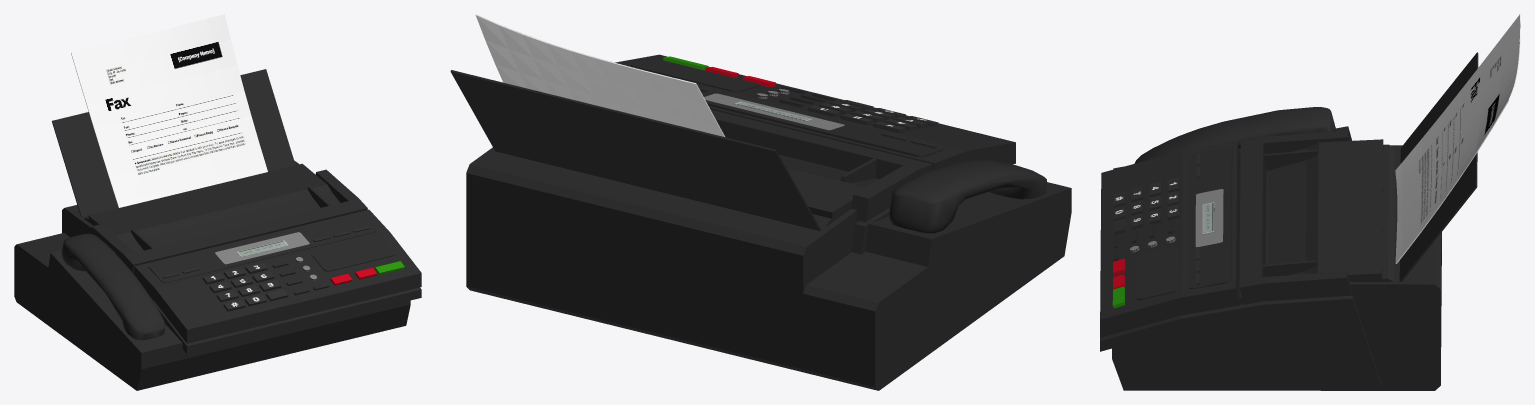
File: Fax.FBX
3 views of the same model, side by side, from view 1: azimuth 30°, elevation 25°; view 2: azimuth 150°, elevation 25°; view 3: azimuth 270°, elevation 25° (orthographic). The views are drawn at different scales.
Visible parts, largest first — view 1: fax; view 2: fax; view 3: fax.
Part boxes in pixels (x1,y1,x2,y2): fax: (14, 14, 421, 390); fax: (450, 14, 1071, 390); fax: (1100, 14, 1520, 390).
Size of the model in its own units: 39.15 by 28.49 by 40.2.
Materials: 2 (2 with a texture image).
